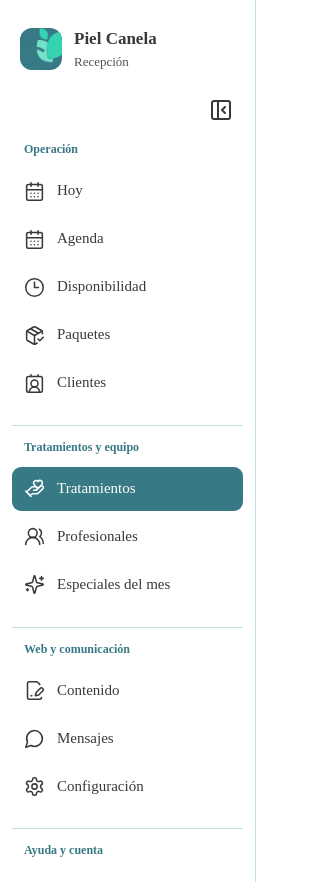
AdminRouteNav › collapses without removing accessible labels
This screenshot has width=320, height=882.
Click the button named "Contraer menú" at (221, 110), box [199,88,243,132]
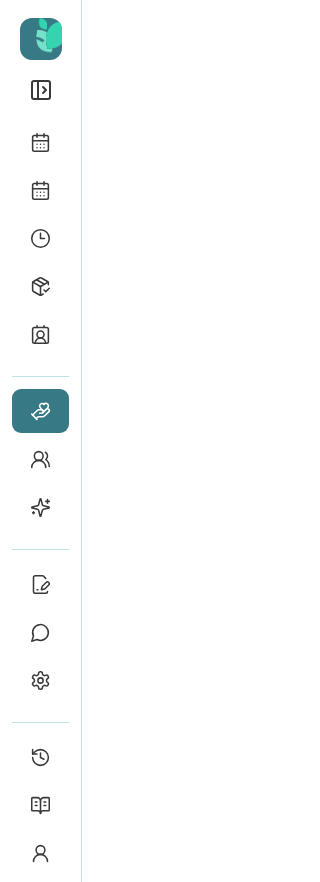
Expected: the button named "Expandir menú" is collapsed, [18,68,62,112]
